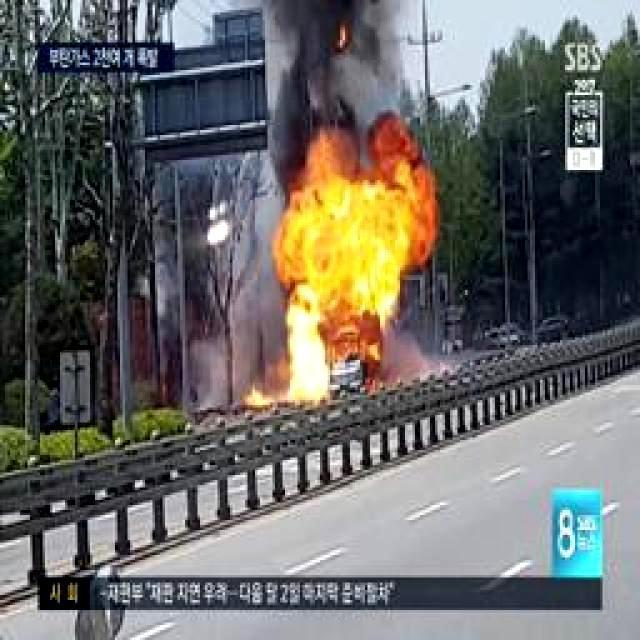Fire: (246, 114, 433, 412)
Smoke: (261, 0, 411, 120)
